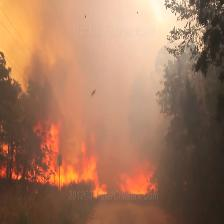fire: (0, 106, 188, 212)
